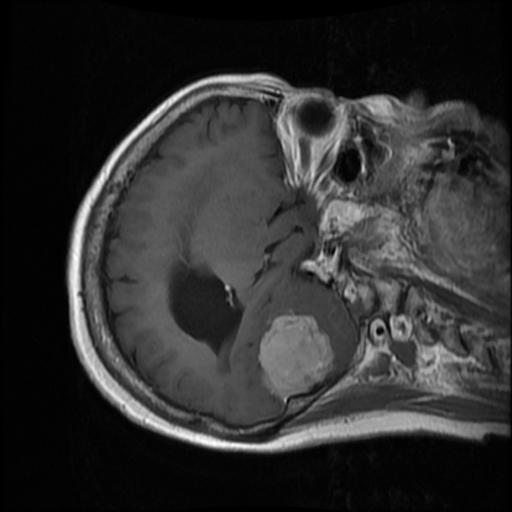meningioma: (255, 312, 331, 400)
